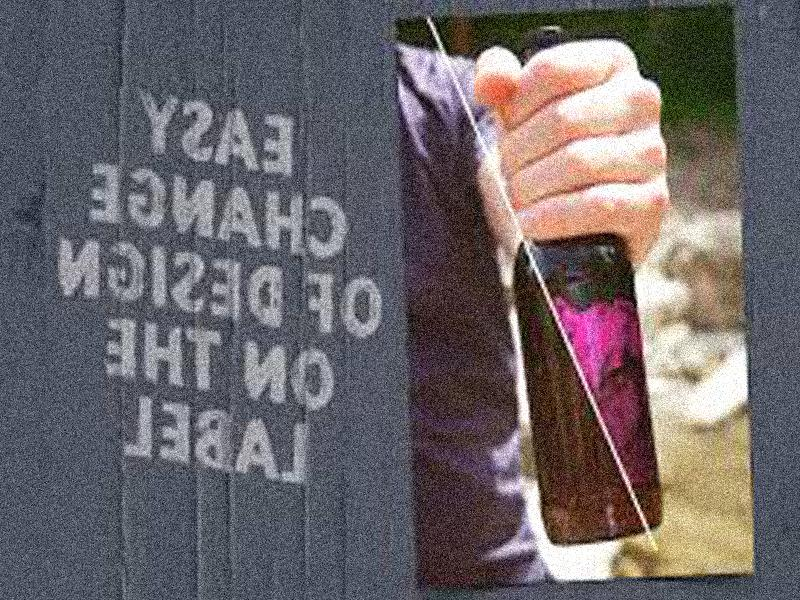Beer: (511, 30, 656, 544)
